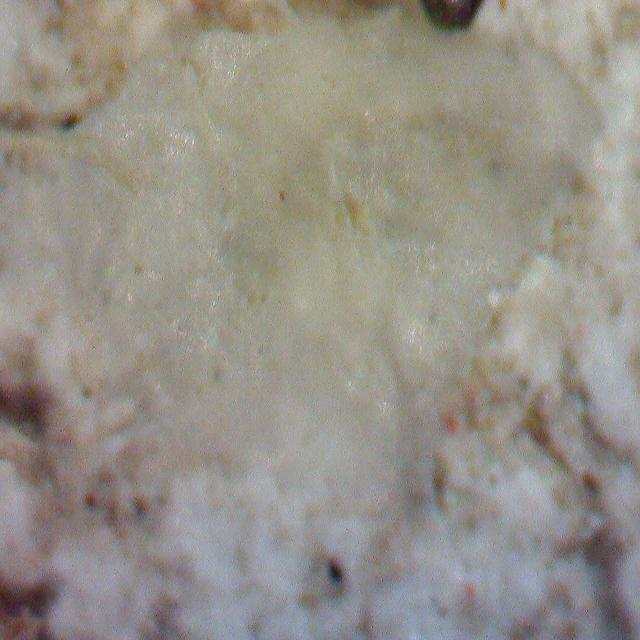microplastic: (0, 16, 609, 481)
